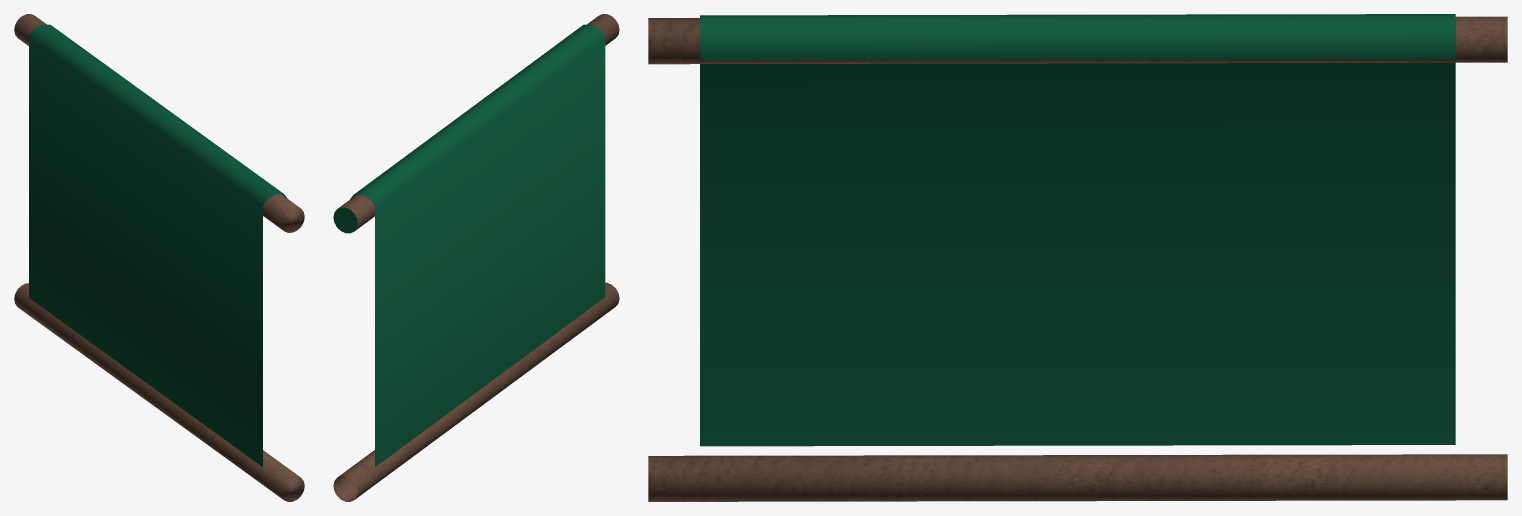
File: меловая доска.fbx
3 renders of one model, left to right at view 1: azimuth 30°, elevation 25°; view 2: azimuth 150°, elevation 25°; view 3: azimuth 270°, elevation 25°, orthographic. The views are drawn at different scales.
Visible parts, largest first — view 1: Plane.018; view 2: Plane.018; view 3: Plane.018.
Part boxes in pixels (x1=…): Plane.018: x1=14, y1=14, x2=304, y2=501; Plane.018: x1=333, y1=14, x2=619, y2=501; Plane.018: x1=648, y1=14, x2=1507, y2=501.
Bounding box in the file's own units: 84.12 × 811 × 1312.
Materials: 2 (1 with a texture image).
